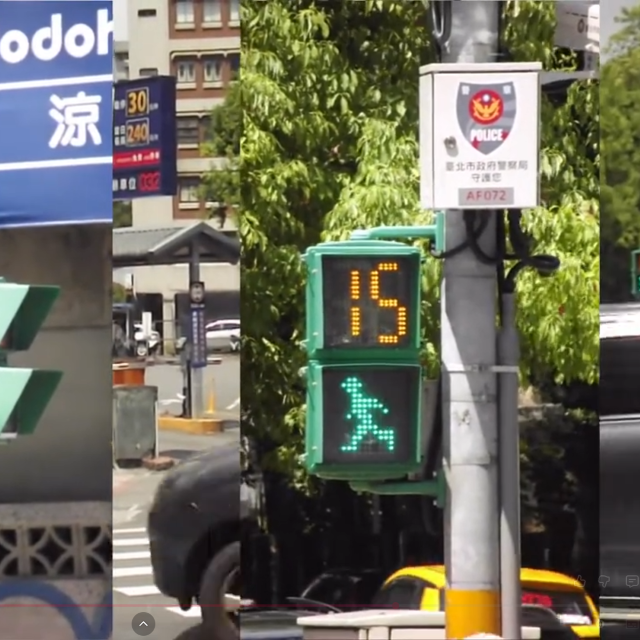green_light: (310, 247, 424, 474)
